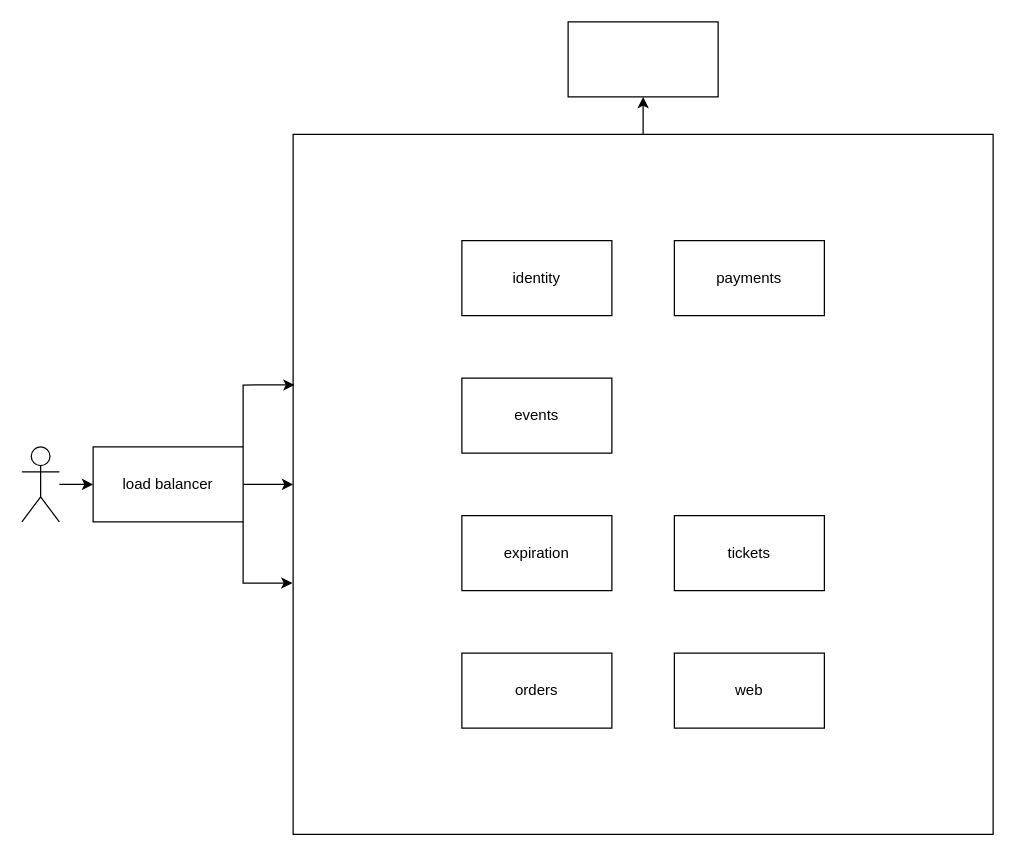
The diagram is 1015 pixels wide and 856 high, and some of its shapes have lost their labels. The shapes that lost their labels are listed below. From the top down, each one's centre as x and y in pixels, then its label:
At point 642,59: "common".
At point 40,484: "Actor".
